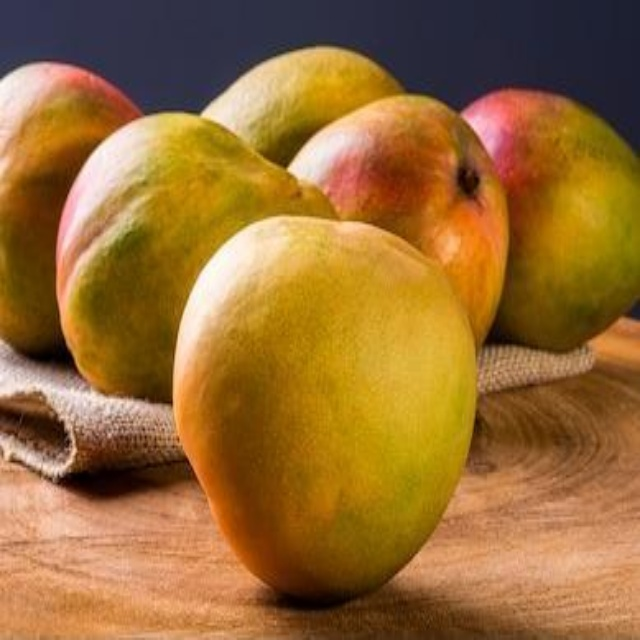mango: (184, 225, 475, 599), (61, 112, 273, 398), (289, 92, 510, 353), (460, 89, 639, 346), (3, 51, 133, 357), (189, 39, 399, 161)
